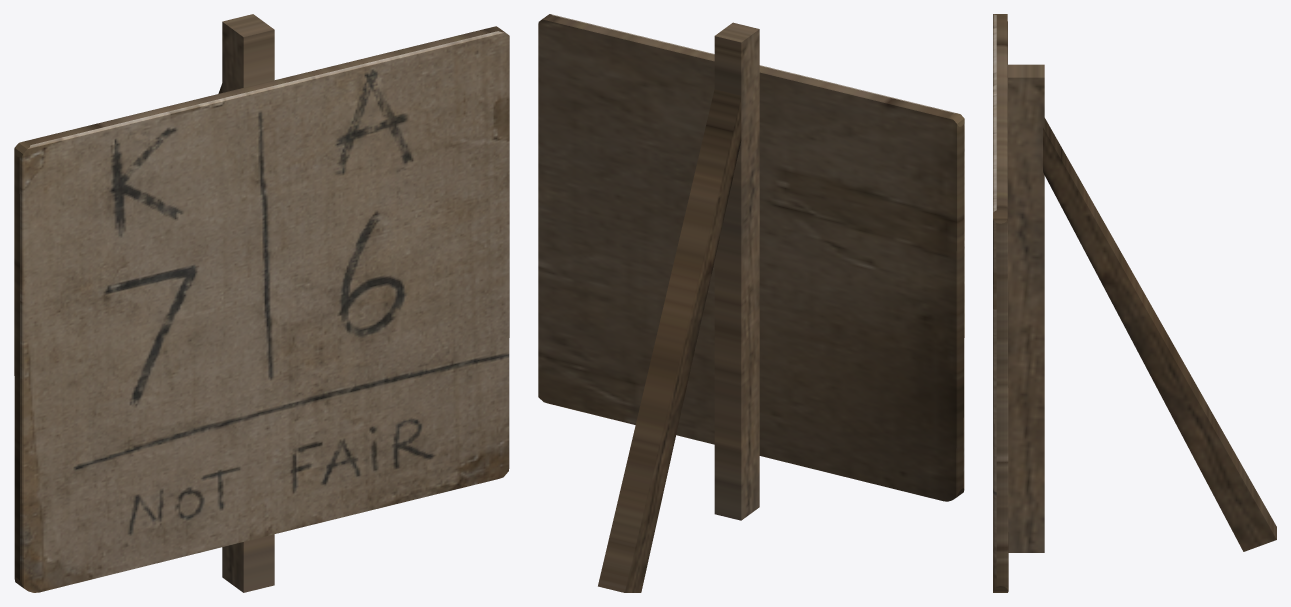
Rendered from Scoreboard.fbx.
3 renders of one model, left to right at view 1: azimuth 30°, elevation 25°; view 2: azimuth 150°, elevation 25°; view 3: azimuth 270°, elevation 25°, orthographic. The views are drawn at different scales.
Visible parts, largest first — view 1: Plane, Cube; view 2: Plane, Cube.001, Cube; view 3: Cube, Cube.001, Plane.
Part boxes in pixels (x1,y1,x2,y2): Plane: [14, 26, 509, 592]; Cube: [222, 14, 274, 592]; Plane: [538, 14, 964, 501]; Cube.001: [598, 89, 741, 592]; Cube: [714, 22, 759, 520]; Cube: [1008, 64, 1044, 552]; Cube.001: [1043, 118, 1276, 551]; Plane: [993, 14, 1008, 592].
Bounding box in the file's own units: 108 × 117 × 63.32.
1 material, 1 textured.
